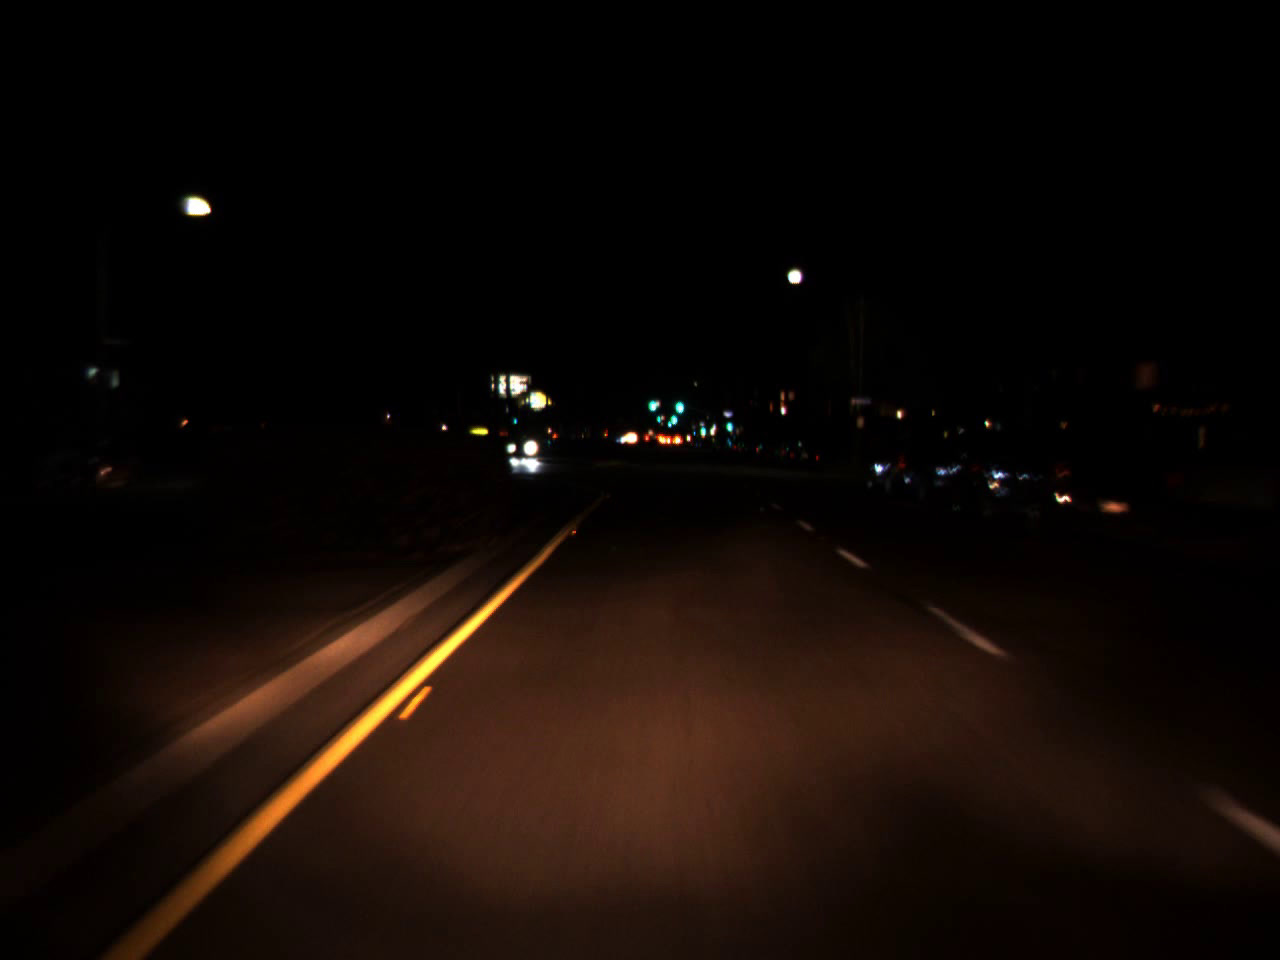go: (661, 410, 675, 431), (647, 390, 657, 414), (668, 407, 678, 425), (675, 397, 684, 415), (653, 407, 662, 425), (700, 422, 707, 434)
